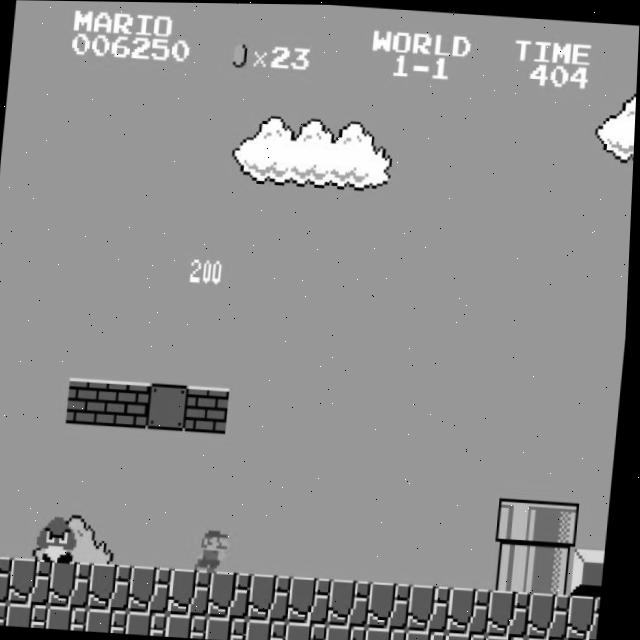1- brick_block: (69, 377, 114, 426), (109, 380, 154, 428), (189, 385, 234, 433)
11- little_mario: (192, 523, 239, 574)
14- pipe: (496, 542, 540, 591), (536, 545, 580, 593)
15- pipe_head: (500, 497, 544, 546), (540, 499, 584, 548)
17- undestructible_block: (13, 557, 58, 606), (93, 562, 138, 611), (133, 565, 178, 614), (292, 575, 337, 624), (332, 578, 377, 627), (412, 583, 457, 632), (53, 560, 98, 608), (173, 568, 218, 616), (252, 573, 297, 621), (372, 581, 417, 629), (452, 586, 497, 634), (492, 588, 537, 636), (532, 591, 577, 639), (213, 570, 257, 619), (572, 593, 606, 640), (51, 605, 94, 631), (171, 613, 214, 639), (11, 603, 54, 628), (91, 608, 134, 633), (131, 611, 174, 636), (211, 616, 254, 640), (251, 618, 294, 640), (0, 555, 18, 603), (291, 621, 333, 640), (331, 623, 373, 640), (370, 626, 412, 640), (410, 628, 452, 640), (450, 630, 492, 640), (0, 600, 14, 625), (490, 633, 532, 640), (530, 635, 572, 640), (571, 638, 602, 640)
3- empty_block: (149, 382, 194, 431)
8- goomba: (37, 513, 85, 564)
9- hard_block: (576, 547, 610, 595)
